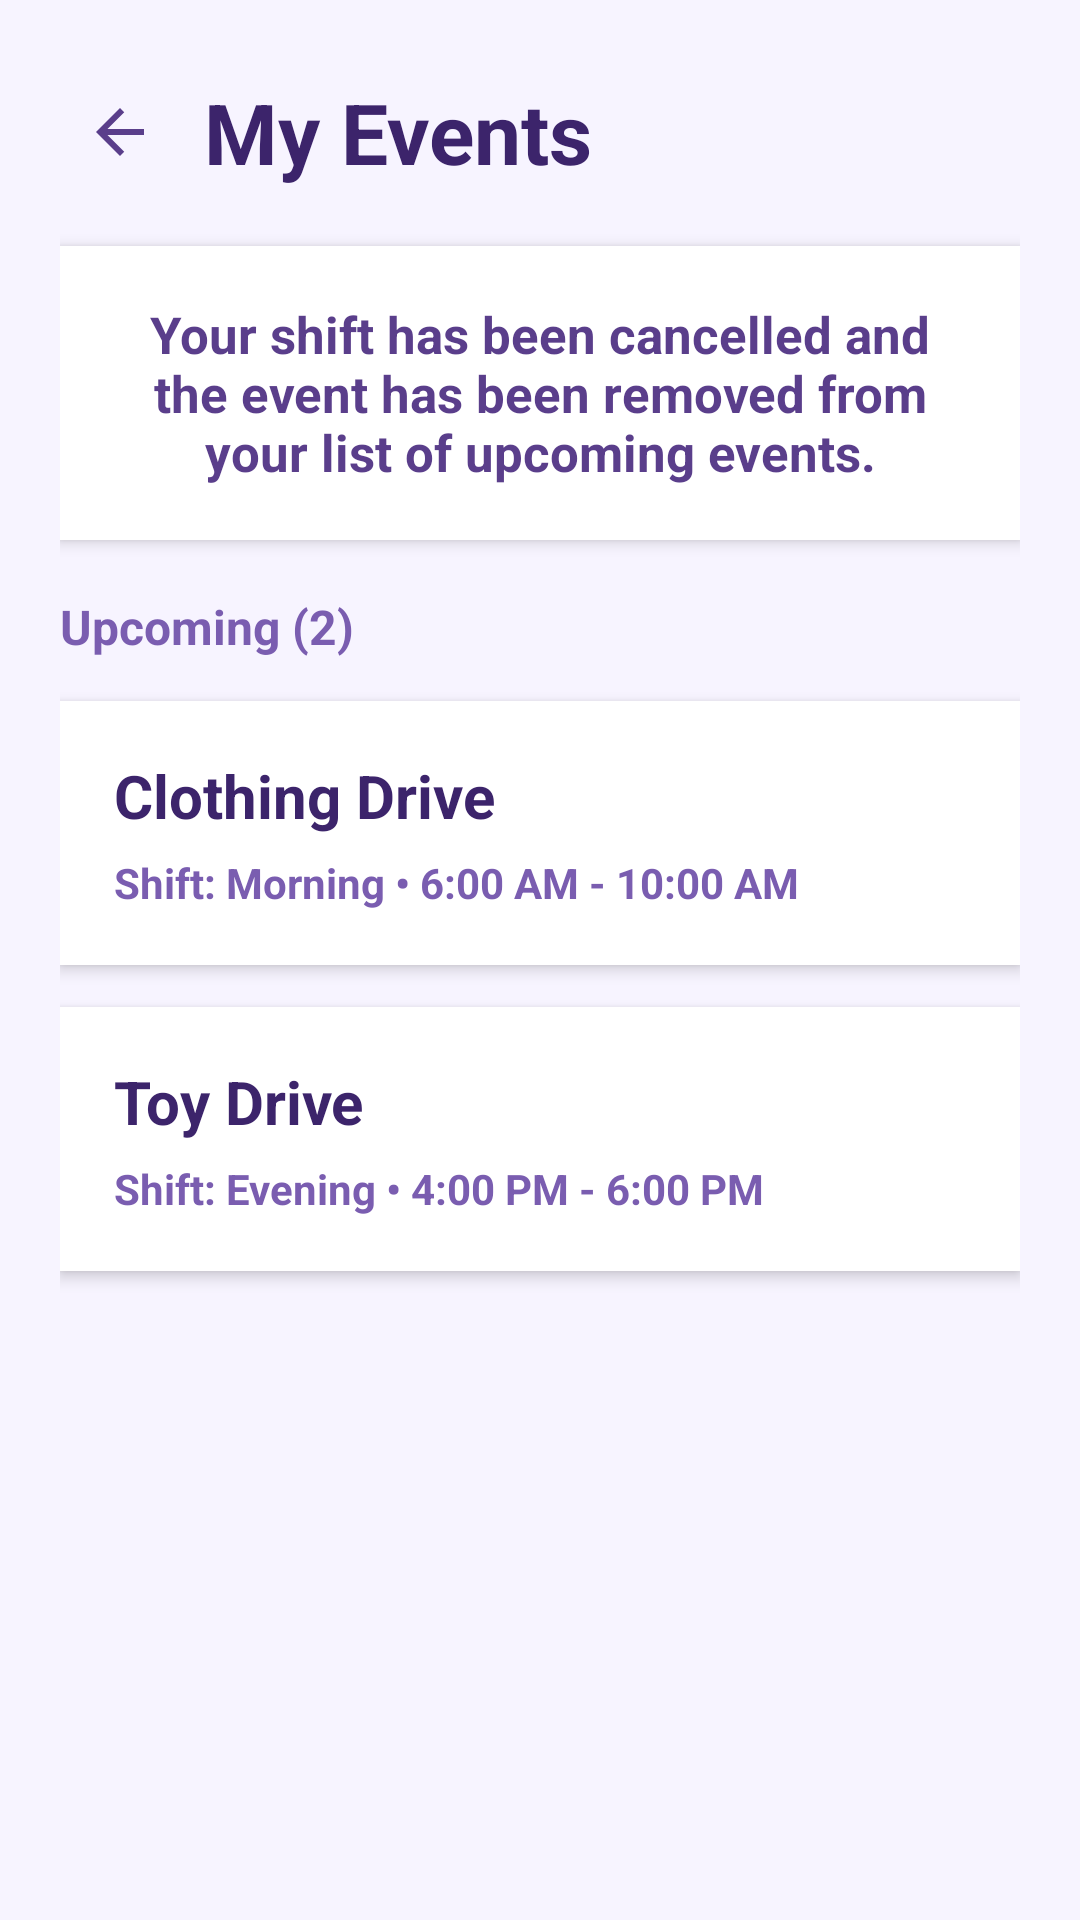

Point at icon controls on the screen. Image size 1080x1920, points as point (x, y).
Back: point (120, 132)
